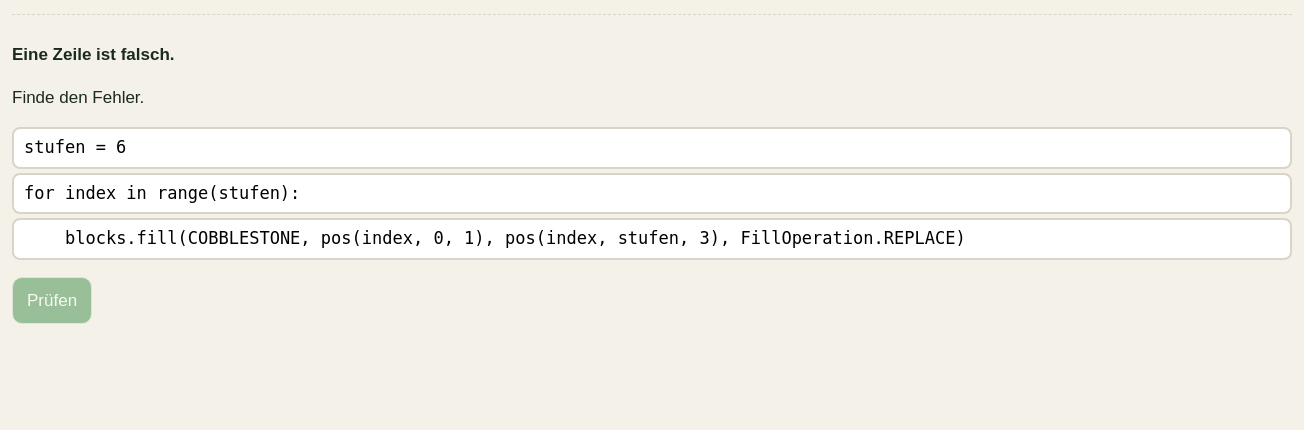
Test: falsche Zeile gewaehlt → findbugRight + Erklaerung; richtige Zeile gewaehlt → findbugWrong ohne Erklaerung
Click the button with test id "findbug-line-1".
click(162, 192)  # box x1=12 y1=172 x2=1292 y2=214
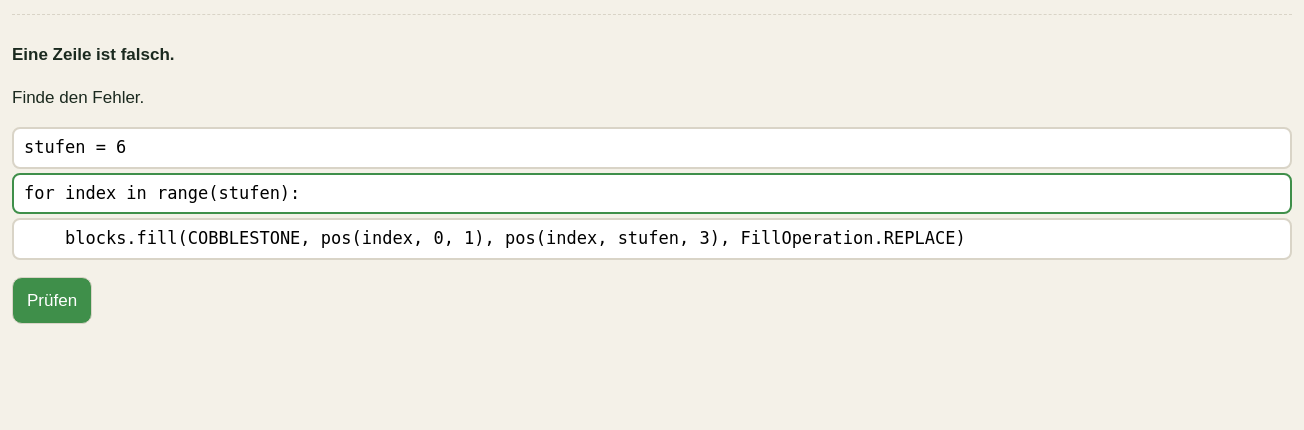
Click the button with test id "findbug-check".
click(52, 300)  # box x1=12 y1=276 x2=92 y2=324
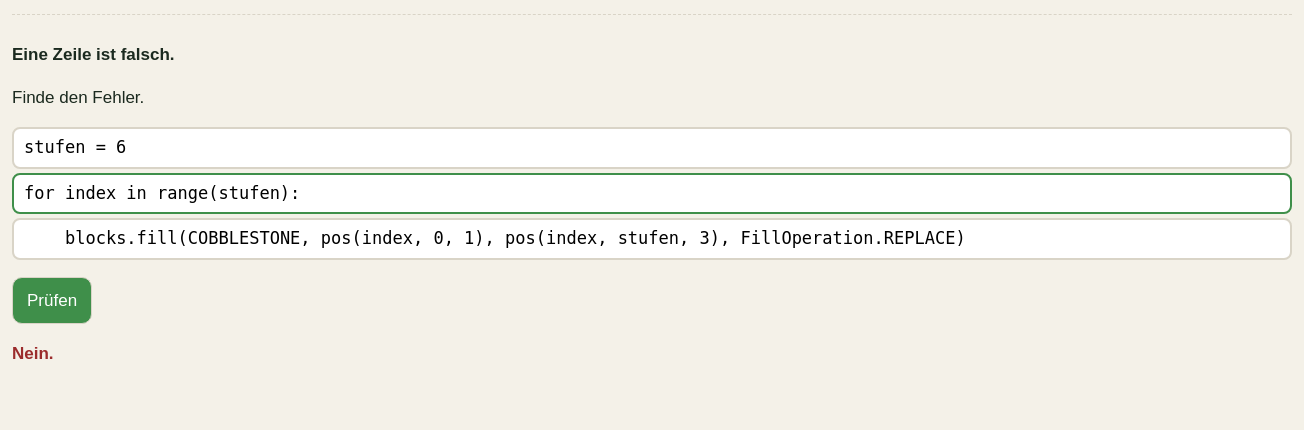
Expected: the message reads "Nein.", x1=12 y1=344 x2=54 y2=363
Click the button with test id "findbug-line-2".
click(652, 239)  # box x1=12 y1=218 x2=1292 y2=260
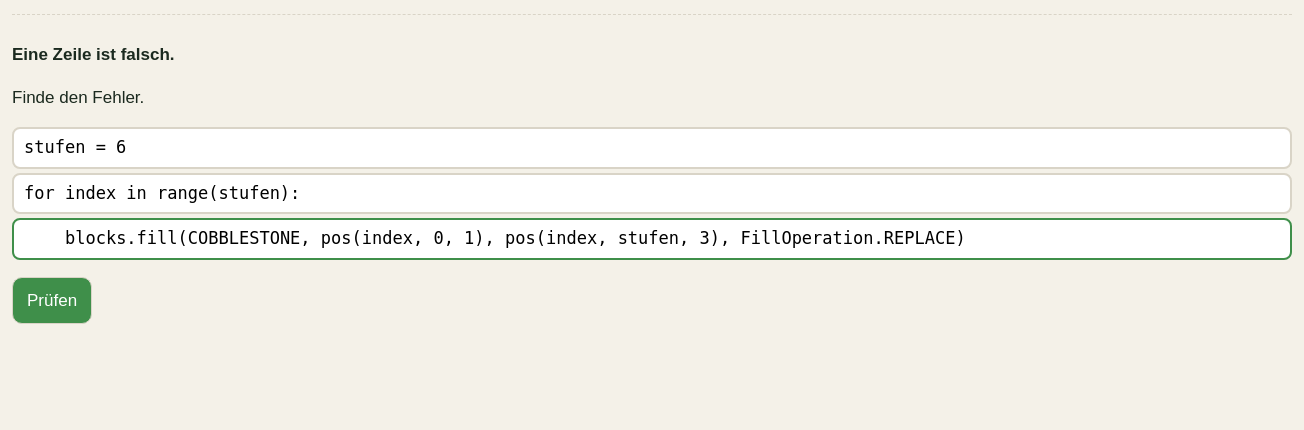
Click the button with test id "findbug-check".
click(52, 300)  # box x1=12 y1=276 x2=92 y2=324
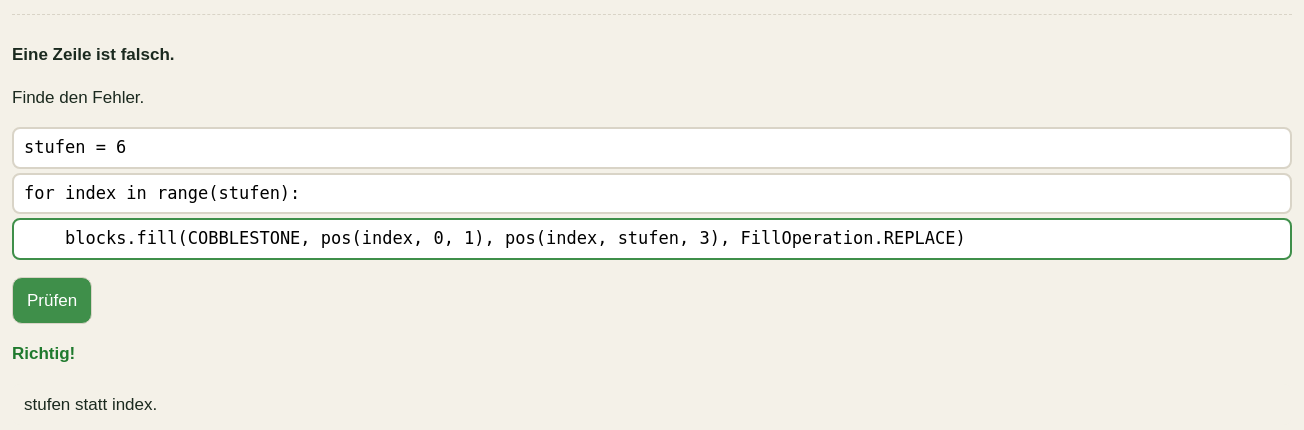
Expected: the message reads "Richtig!", x1=12 y1=344 x2=75 y2=363
Expected: the text with test id "findbug-explain" reads "stufen statt index.", x1=24 y1=394 x2=157 y2=414
